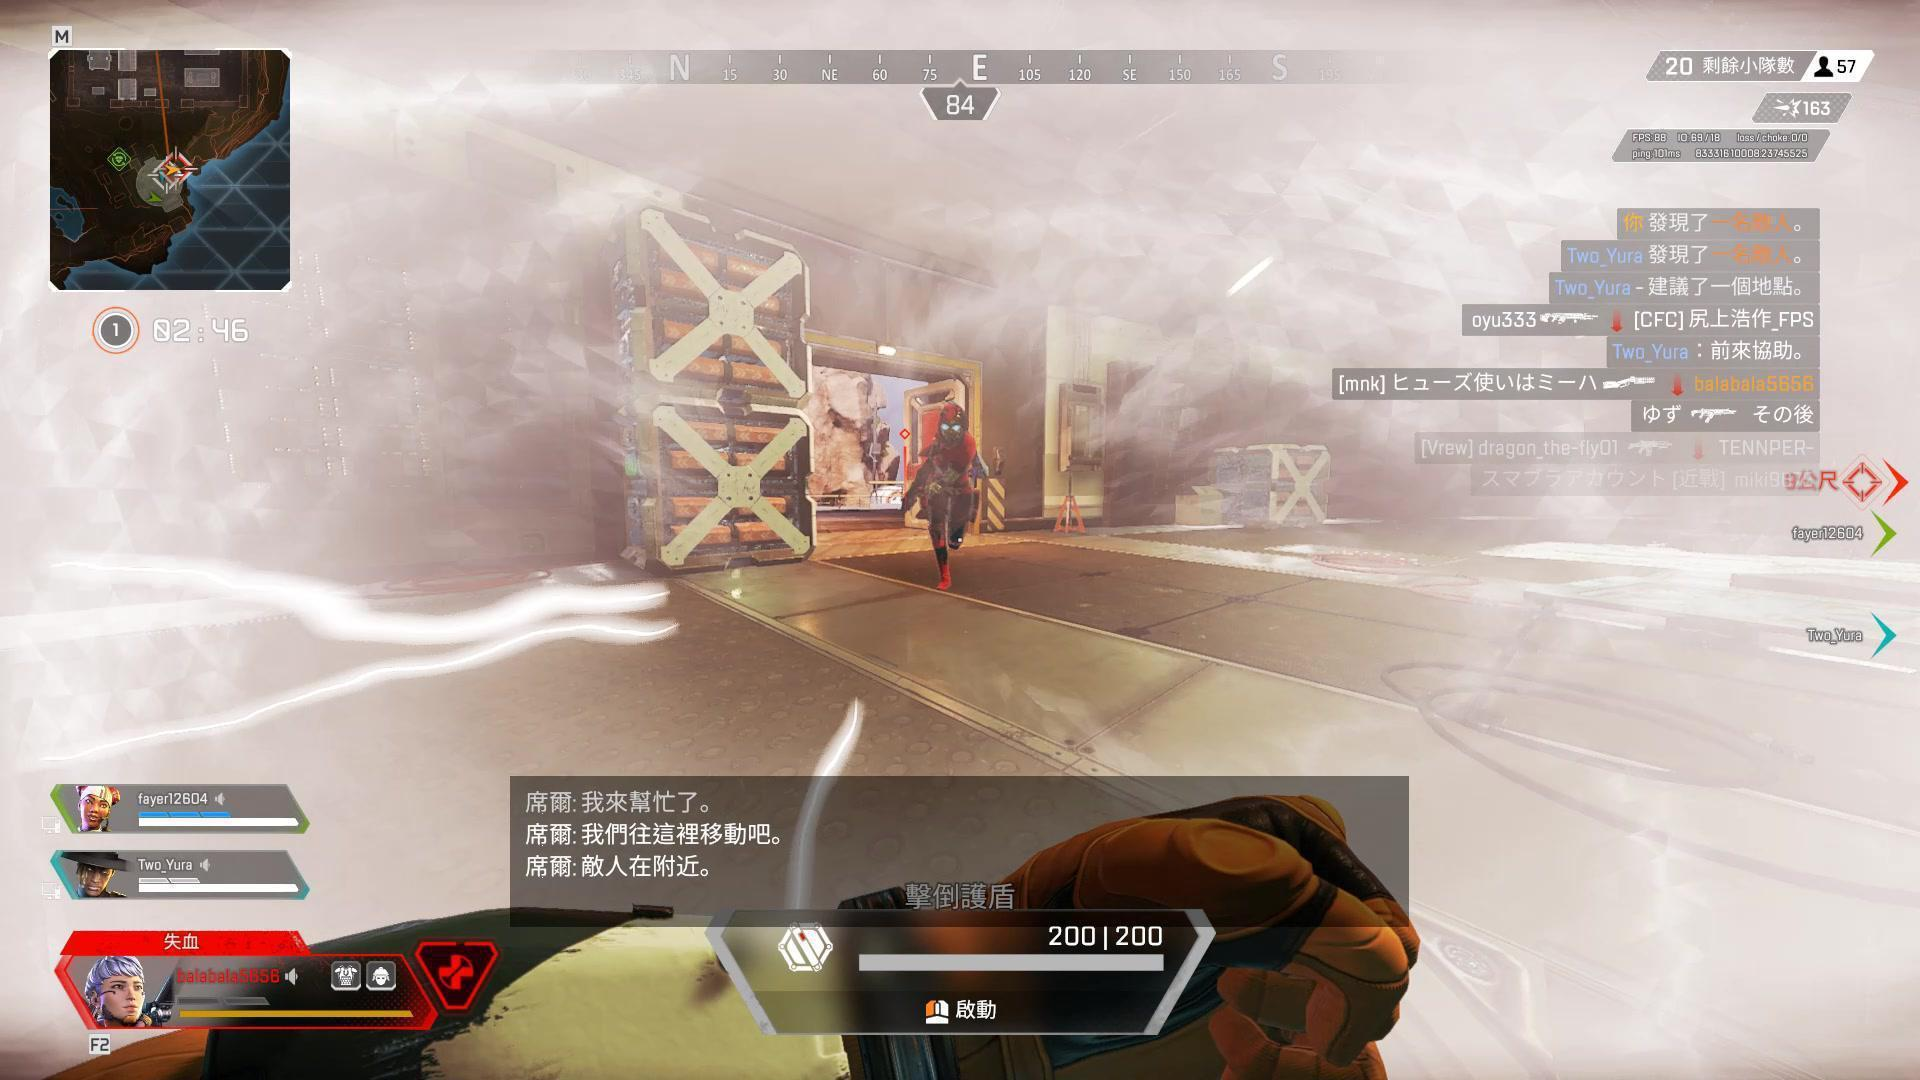avatar: (909, 402, 989, 594)
